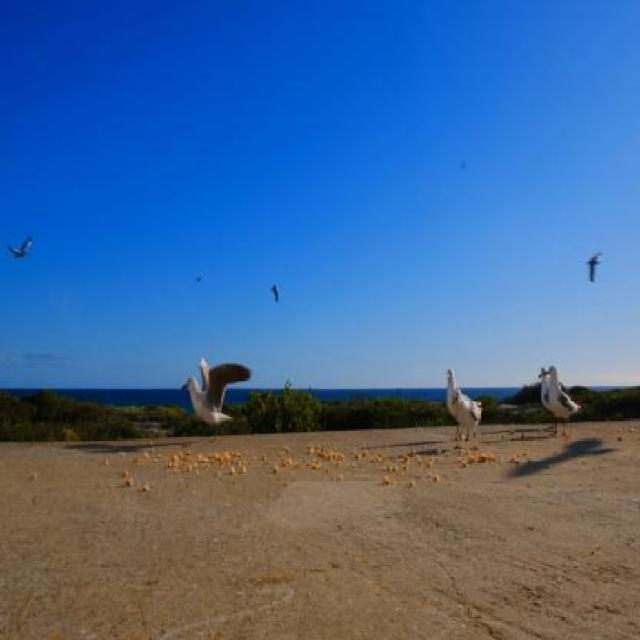bird: (167, 346, 256, 462), (1, 228, 37, 267), (585, 243, 603, 294), (269, 271, 283, 314)
